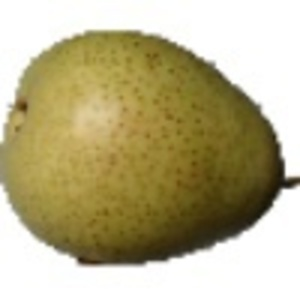pera: (1, 27, 300, 269)
